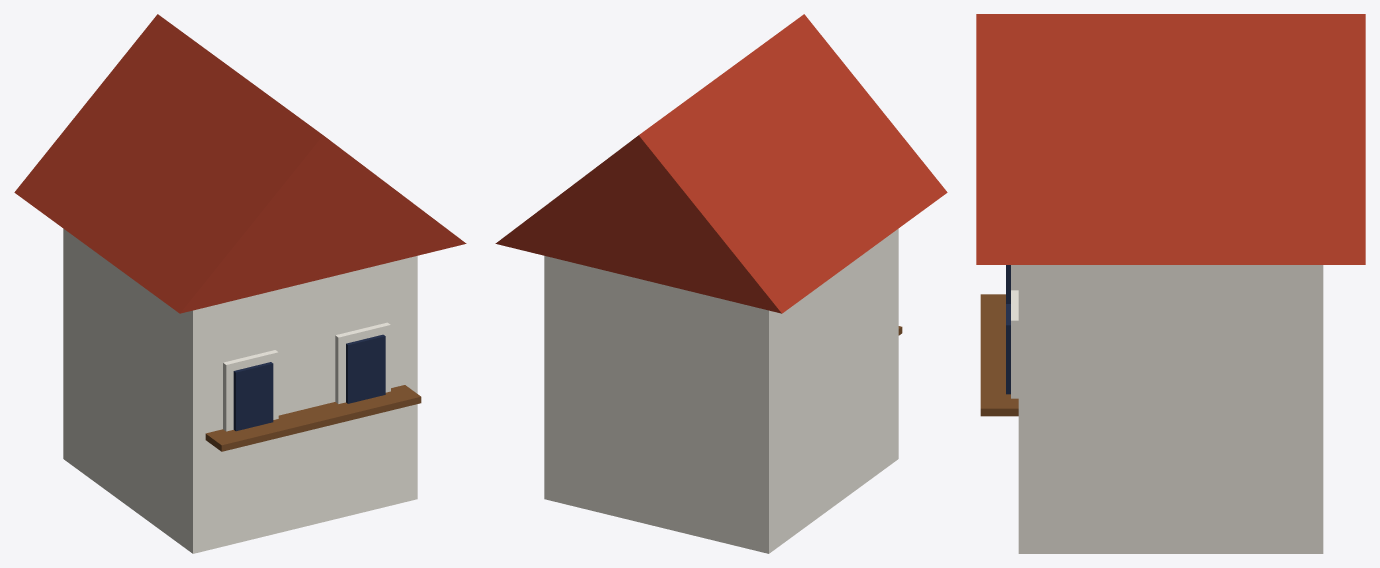
File: willa_0.glb
3 renders of one model, left to right at view 1: azimuth 30°, elevation 25°; view 2: azimuth 150°, elevation 25°; view 3: azimuth 270°, elevation 25°, orthographic. The views are drawn at different scales.
Visible parts, largest first — view 1: willa_0; view 2: willa_0; view 3: willa_0.
Boxes of the visible parts, x1=… form: willa_0: x1=14, y1=14, x2=466, y2=553; willa_0: x1=495, y1=14, x2=947, y2=553; willa_0: x1=976, y1=14, x2=1365, y2=553.
Bounding box in the file's own units: 2.3 × 3.1 × 2.3.
